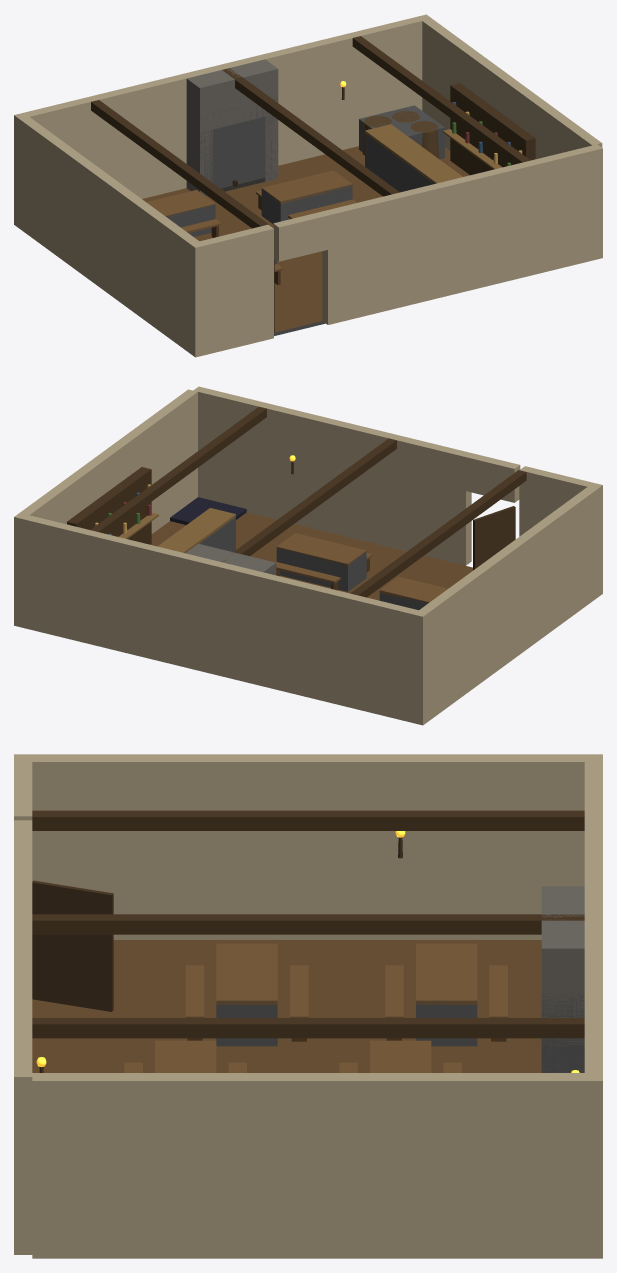
The model's file is tavern.glb.
3 views of the same model, one above another, from view 1: azimuth 30°, elevation 25°; view 2: azimuth 150°, elevation 25°; view 3: azimuth 270°, elevation 25° (orthographic). The views are drawn at different scales.
Visible parts, largest first — view 1: WALL_south_east, WALL_north, WALL_west, WALL_south_west, beam (×3), WALL_east, floor, COL_fireplace, shelf_back, chimney, WALL_door_lintel, counter_top (+11 smaller); view 2: WALL_north, WALL_south_east, WALL_west, WALL_east, beam (×3), floor, WALL_south_west, shelf_back, COL_table_4, door, WALL_door_lintel, table_4_top (+6 smaller); view 3: WALL_east, WALL_west, beam (×3), floor, WALL_north, door, WALL_south_east, chimney, table_2_top, table_1_top, COL_fireplace, table_2_bench (×2) (+9 smaller).
Part boxes in pixels (left/top/right/bottom): WALL_south_east: left=322, top=144, right=602, bottom=324; WALL_north: left=14, top=14, right=431, bottom=228; WALL_west: left=19, top=117, right=198, bottom=352; WALL_south_west: left=189, top=224, right=273, bottom=357; beam (×3): left=91, top=36, right=530, bottom=228; WALL_east: left=422, top=18, right=602, bottom=158; floor: left=142, top=146, right=469, bottom=332; COL_fireplace: left=200, top=98, right=277, bottom=196; shelf_back: left=450, top=83, right=535, bottom=175; chimney: left=186, top=59, right=278, bottom=115; WALL_door_lintel: left=273, top=211, right=327, bottom=261; counter_top: left=365, top=124, right=462, bottom=183; WALL_north: left=14, top=513, right=428, bottom=725; WALL_south_east: left=193, top=386, right=471, bottom=565; WALL_west: left=419, top=487, right=597, bottom=720; WALL_east: left=20, top=389, right=197, bottom=533; beam (×3): left=90, top=406, right=526, bottom=597; floor: left=151, top=512, right=472, bottom=600; WALL_south_west: left=519, top=466, right=602, bottom=597; shelf_back: left=67, top=467, right=151, bottom=544; COL_table_4: left=276, top=547, right=366, bottom=591; door: left=473, top=506, right=515, bottom=570; WALL_door_lintel: left=466, top=453, right=520, bottom=502; table_4_top: left=276, top=533, right=366, bottom=566; WALL_east: left=32, top=1073, right=584, bottom=1258; WALL_west: left=32, top=754, right=584, bottom=939; beam (×3): left=32, top=810, right=584, bottom=1038; floor: left=32, top=940, right=541, bottom=1072; WALL_north: left=584, top=754, right=602, bottom=1258; door: left=32, top=880, right=113, bottom=1011; WALL_south_east: left=14, top=859, right=32, bottom=1254; chimney: left=541, top=886, right=584, bottom=992; table_2_top: left=216, top=943, right=277, bottom=1004; table_1_top: left=416, top=943, right=477, bottom=1004; COL_fireplace: left=541, top=993, right=584, bottom=1072; table_2_bench (×2): left=185, top=965, right=308, bottom=1017.
Size of the model in its own units: 12.6 by 3.3 by 9.6.
